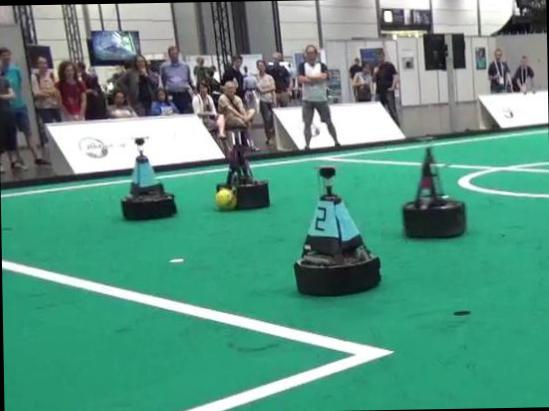ball: (214, 186, 235, 208)
person: (297, 43, 340, 149)
robot: (293, 166, 378, 293), (402, 146, 465, 237), (121, 137, 175, 218), (215, 128, 269, 208)
